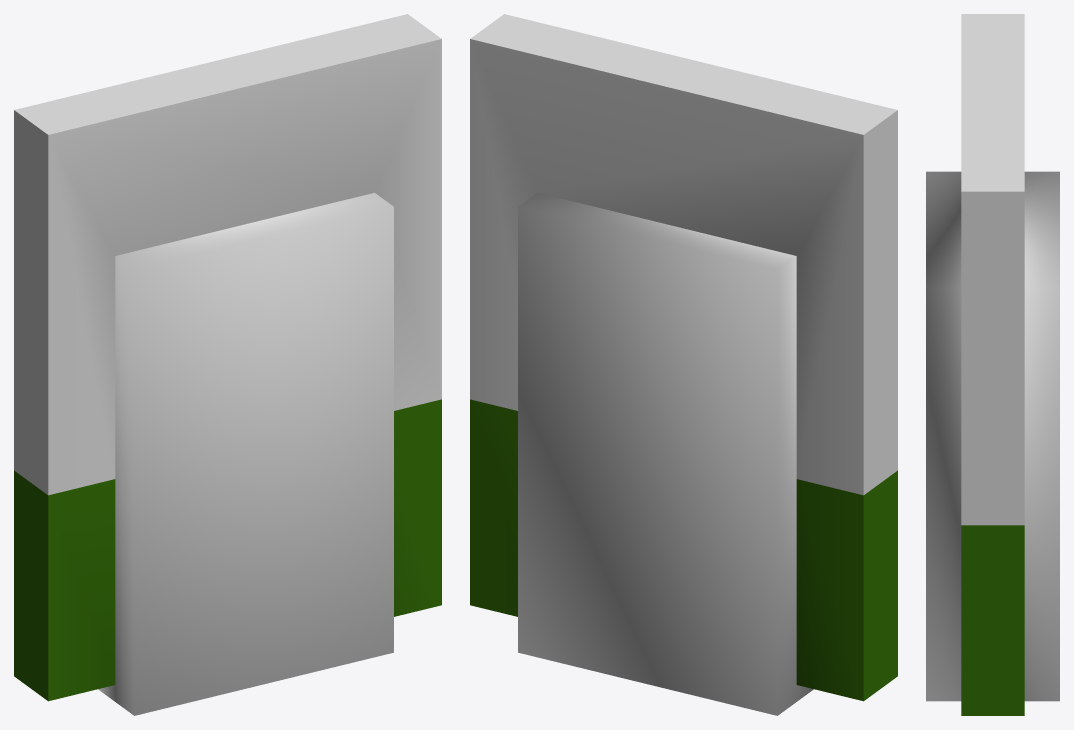
Rendered from Doorway_W_Wall.fbx.
3 renders of one model, left to right at view 1: azimuth 30°, elevation 25°; view 2: azimuth 150°, elevation 25°; view 3: azimuth 270°, elevation 25°, orthographic. The views are drawn at different scales.
Visible parts, largest first — view 1: Wall, Door_Block; view 2: Wall, Door_Block; view 3: Wall, Door_Block.
Part boxes in pixels (x1,y1,x2,y2): Wall: (14, 14, 441, 701); Door_Block: (98, 192, 393, 715); Wall: (470, 14, 897, 701); Door_Block: (518, 192, 813, 715); Wall: (961, 14, 1024, 715); Door_Block: (926, 171, 1059, 701).
Size of the model in its own units: 200 by 283 by 63.61.
